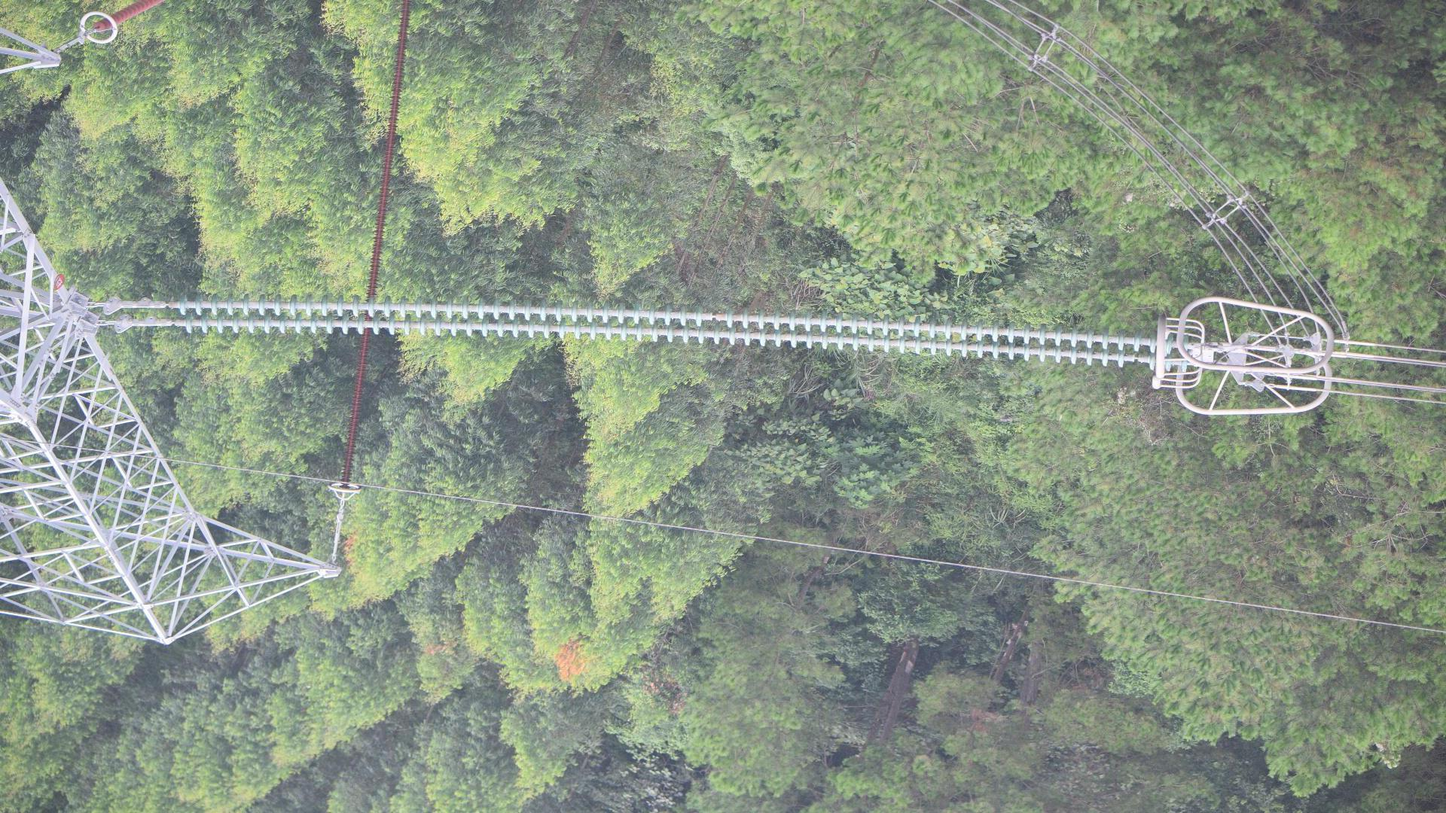insulator: (173, 289, 1194, 375), (337, 1, 416, 483), (89, 1, 168, 37)
insulator_stringdrop: (693, 303, 737, 330), (1116, 346, 1158, 372)
